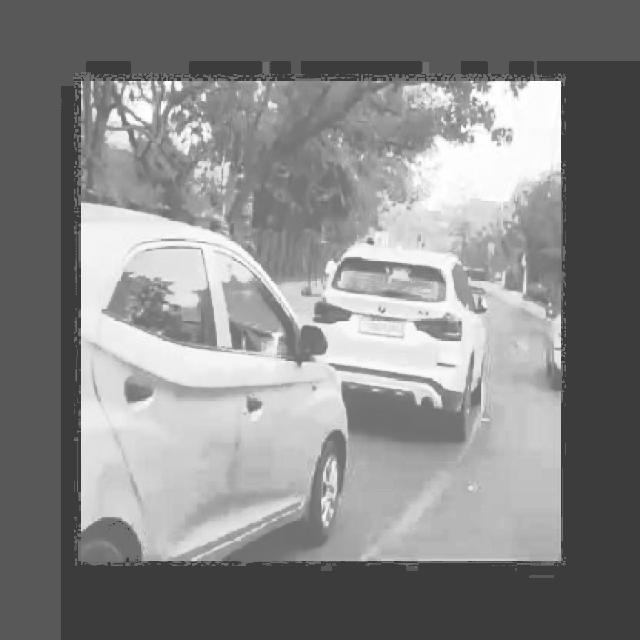Car: (82, 178, 346, 564), (328, 225, 503, 442)
